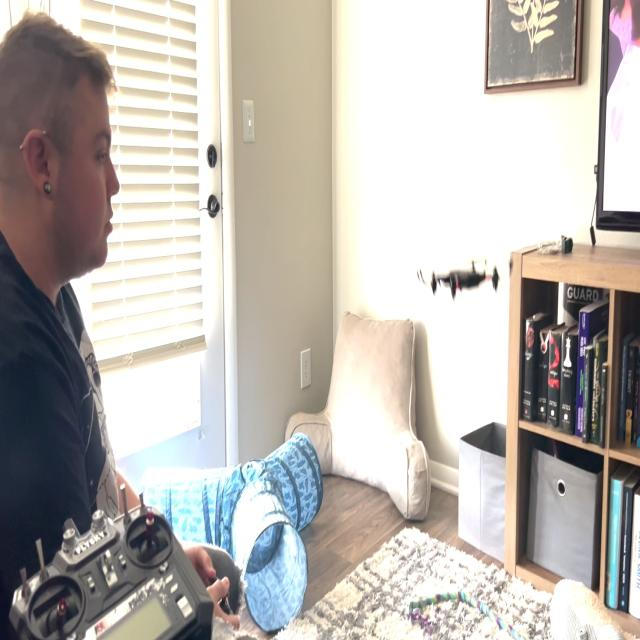drone: (408, 242, 506, 317)
